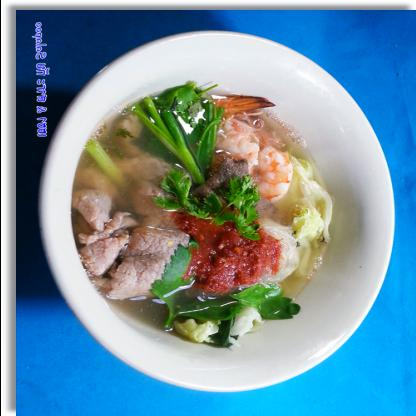Suki: (67, 59, 351, 357)
